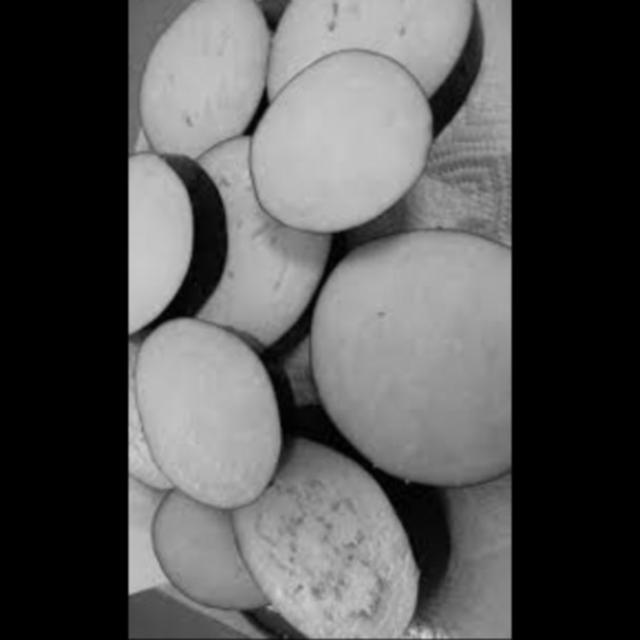eggplant: (310, 222, 504, 500), (223, 421, 435, 640), (176, 124, 350, 363), (243, 49, 427, 230), (130, 322, 296, 522), (260, 0, 480, 144), (127, 0, 273, 168), (127, 144, 231, 361), (142, 486, 270, 623)
